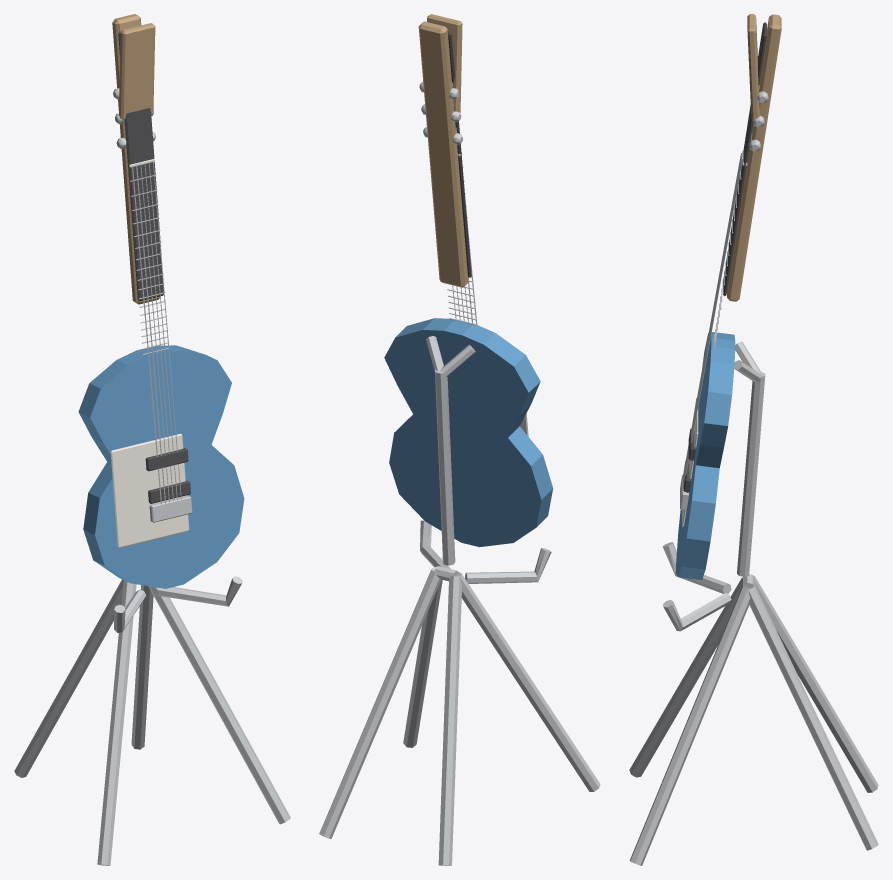
File: live-music-venue-and-festival-stage-guitar-stand-with--12a05ac1.glb
3 renders of one model, left to right at view 1: azimuth 30°, elevation 25°; view 2: azimuth 150°, elevation 25°; view 3: azimuth 270°, elevation 25°, orthographic. The views are drawn at different scales.
Parts seen in each view (by area): view 1: guitar-stand-with-guitar-blue; view 2: guitar-stand-with-guitar-blue; view 3: guitar-stand-with-guitar-blue.
Part boxes in pixels (x1,y1,x2,y2): guitar-stand-with-guitar-blue: (14, 14, 290, 865); guitar-stand-with-guitar-blue: (319, 14, 600, 865); guitar-stand-with-guitar-blue: (629, 14, 878, 865).
Bounding box in the file's own units: 0.4239 × 1.64 × 0.4636.
